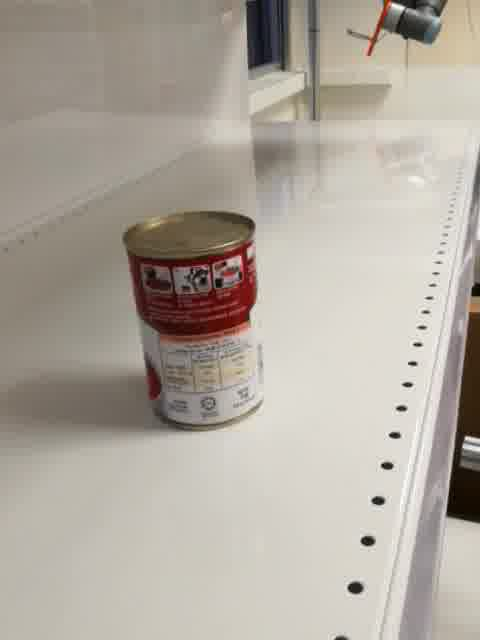tomatosoup: (120, 207, 264, 433)
